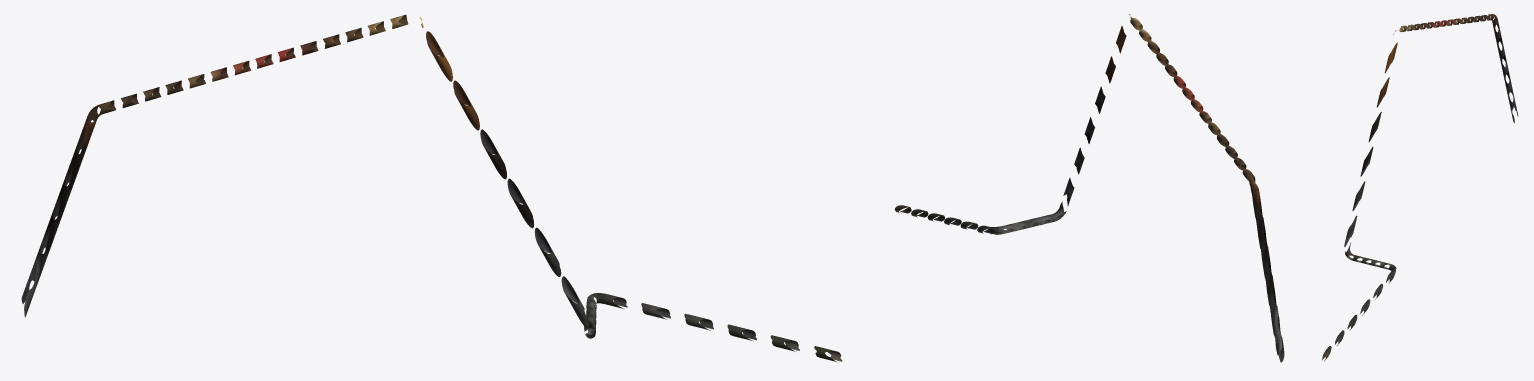
Rendered from wire3.fbx.
The picture shows the model from 3 angles, left to right: view 1: azimuth 30°, elevation 25°; view 2: azimuth 150°, elevation 25°; view 3: azimuth 270°, elevation 25°; orthographic projection. The views are drawn at different scales.
Parts seen in each view (by area): view 1: wire3; view 2: wire3; view 3: wire3.
Part boxes in pixels (x1,y1,x2,y2): wire3: [21, 14, 842, 361]; wire3: [894, 14, 1284, 362]; wire3: [1322, 14, 1518, 361].
Size of the model in its own units: 6.13 by 3.4 by 2.72.
1 material, 1 textured.
